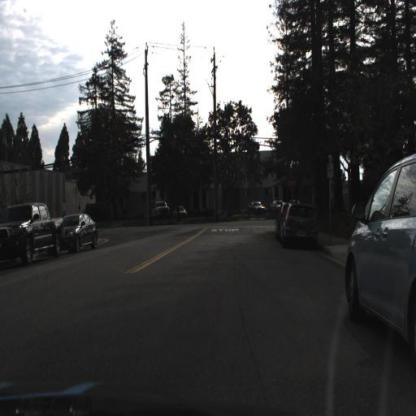car: (343, 152, 416, 356), (2, 203, 67, 264), (281, 200, 321, 252), (281, 199, 320, 251), (62, 209, 98, 255), (67, 213, 98, 252), (247, 197, 267, 223), (152, 201, 170, 220), (170, 203, 187, 223)
